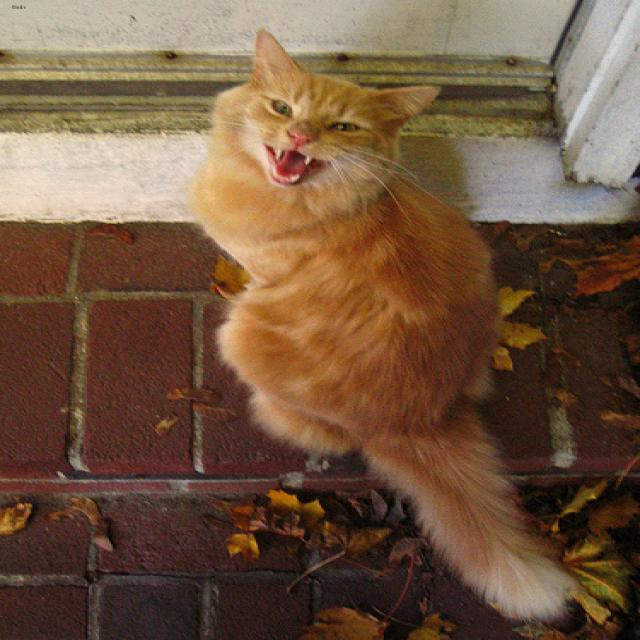Maine_Coon: (209, 27, 441, 198)
